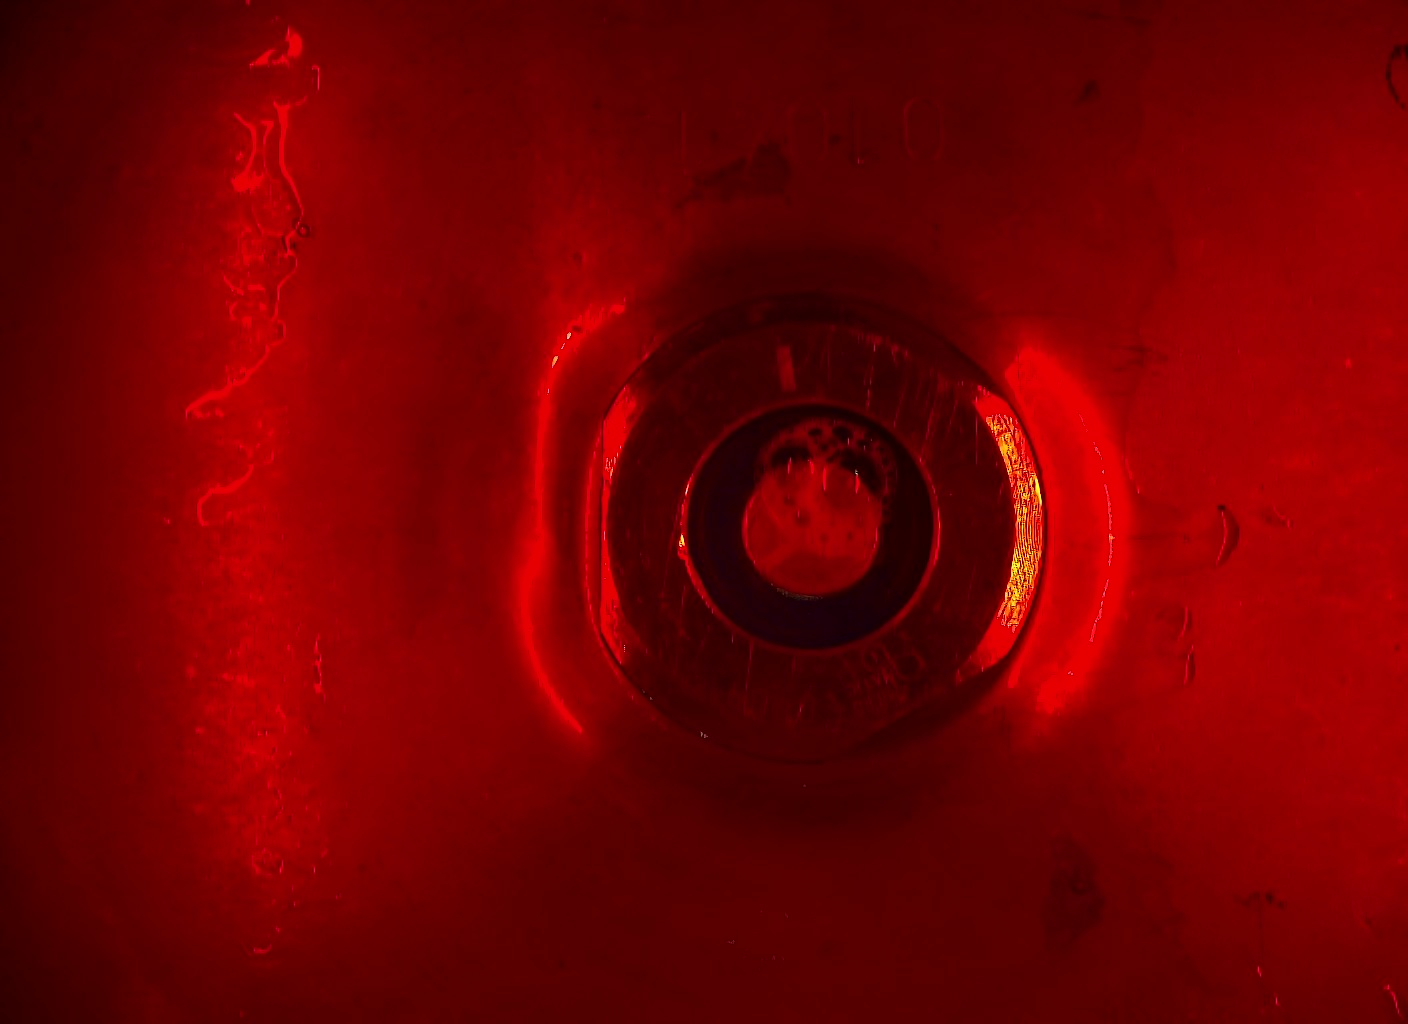pena: (754, 416, 906, 557)
